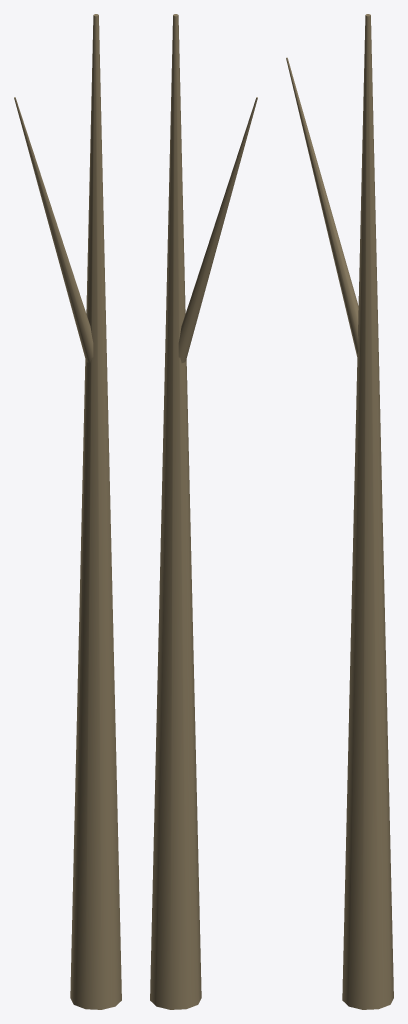
The model's file is Tronco_alto_03.fbx.
3 views of the same model, side by side, from view 1: azimuth 30°, elevation 25°; view 2: azimuth 150°, elevation 25°; view 3: azimuth 330°, elevation 25° (orthographic).
Parts seen in each view (by area): view 1: Tronco_mediano_03; view 2: Tronco_mediano_03; view 3: Tronco_mediano_03.
Part boxes in pixels (x1,y1,x2,y2): Tronco_mediano_03: (14, 14, 121, 1009); Tronco_mediano_03: (150, 14, 257, 1009); Tronco_mediano_03: (286, 14, 393, 1009).
Bounding box in the file's own units: 1.96 × 17.67 × 0.8039.
